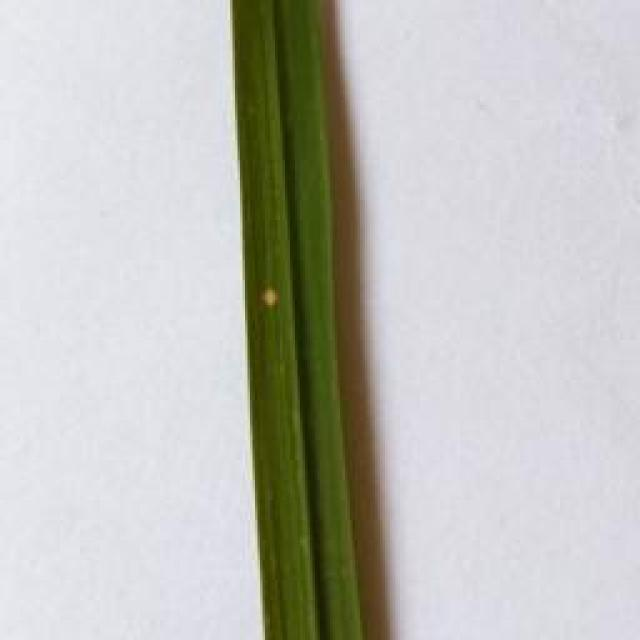Unhealthy: (261, 284, 281, 309)
